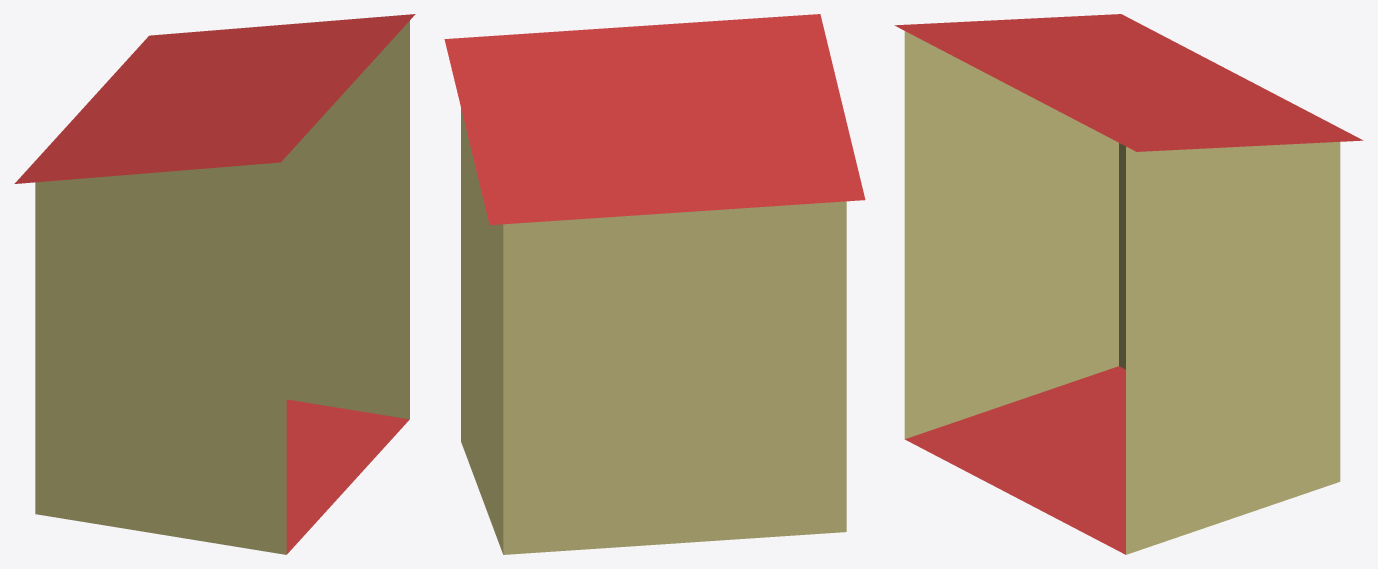
The picture shows the model from 3 angles, left to right: view 1: azimuth 30°, elevation 25°; view 2: azimuth 150°, elevation 25°; view 3: azimuth 270°, elevation 25°; orthographic projection. The views are drawn at different scales.
Size of the model in its own units: 7.2 by 7 by 6.71.
